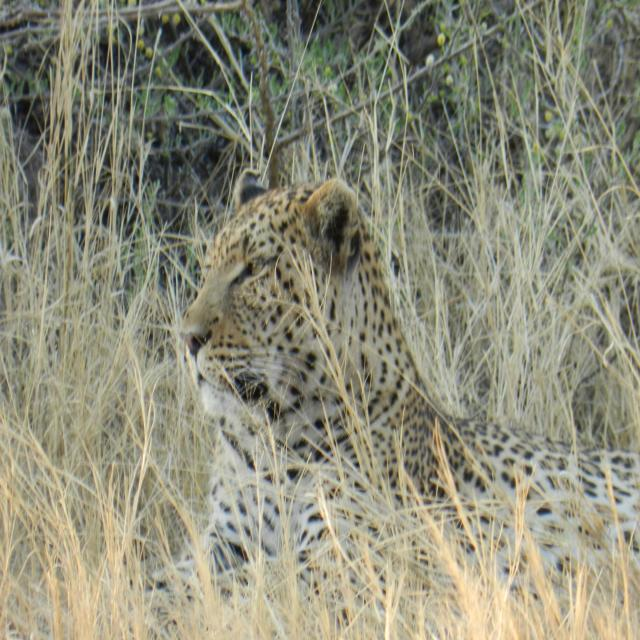Leopard: (83, 167, 640, 634)
